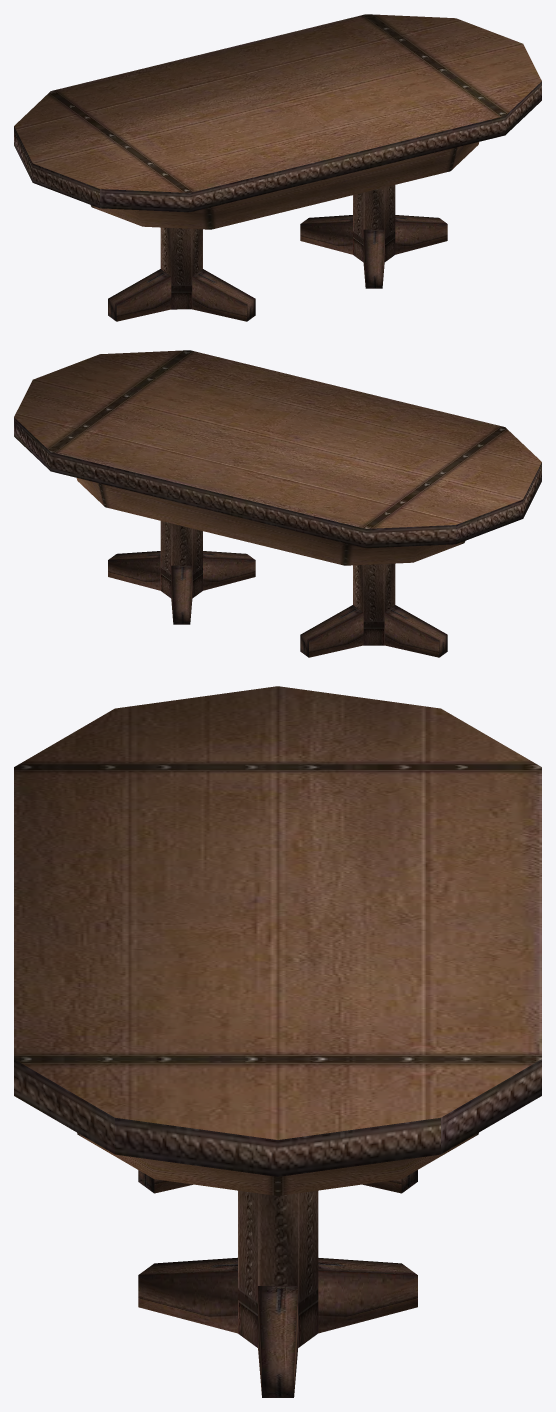
Rendered from NW_CITY_TABLE_RICH_01.glb.
The picture shows the model from 3 angles, top to bottom: view 1: azimuth 30°, elevation 25°; view 2: azimuth 150°, elevation 25°; view 3: azimuth 270°, elevation 25°; orthographic projection. The views are drawn at different scales.
Parts seen in each view (by area): view 1: Mesh; view 2: Mesh; view 3: Mesh.
Boxes of the visible parts, x1,y1,x2,y2 form: Mesh: (14, 14, 541, 321); Mesh: (14, 350, 541, 657); Mesh: (14, 686, 541, 1397).
Size of the model in its own units: 2.64 by 0.9001 by 1.3.
Materials: 1 (1 with a texture image).
